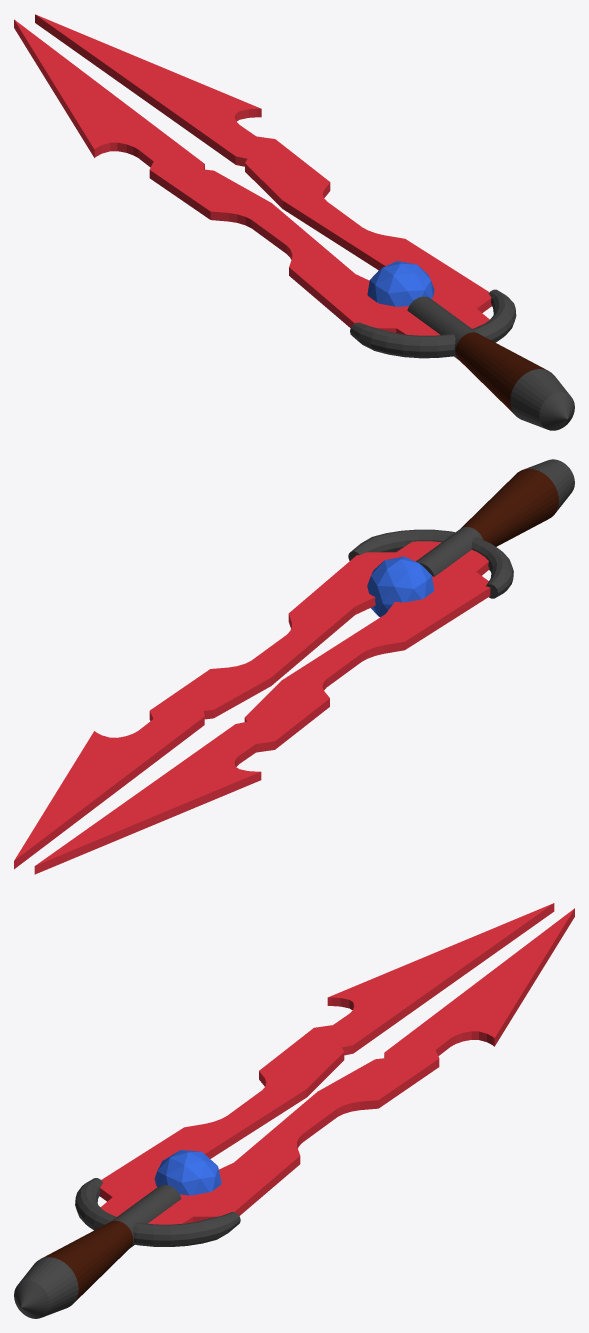
The picture shows the model from 3 angles, top to bottom: view 1: azimuth 30°, elevation 25°; view 2: azimuth 150°, elevation 25°; view 3: azimuth 330°, elevation 25°; orthographic projection.
Parts seen in each view (by area): view 1: 74; view 2: 74; view 3: 74.
Part boxes in pixels (x1=…): 74: x1=14, y1=14, x2=574, y2=430; 74: x1=14, y1=459, x2=574, y2=874; 74: x1=14, y1=903, x2=574, y2=1318.
Size of the model in its own units: 11.08 by 4.04 by 62.41.
